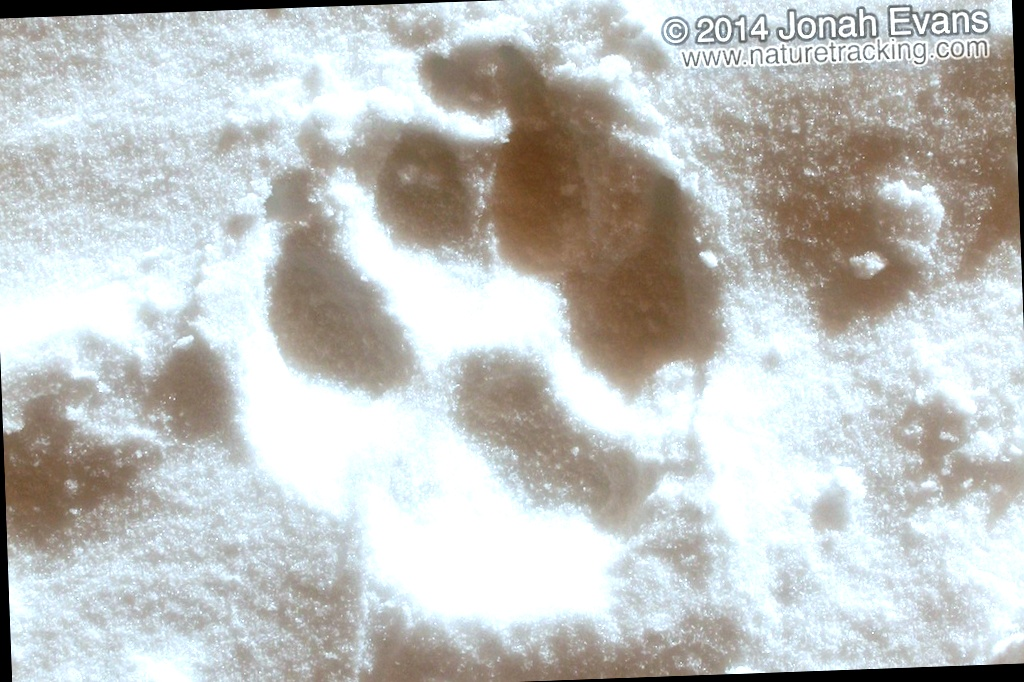loup: (186, 6, 800, 666)
